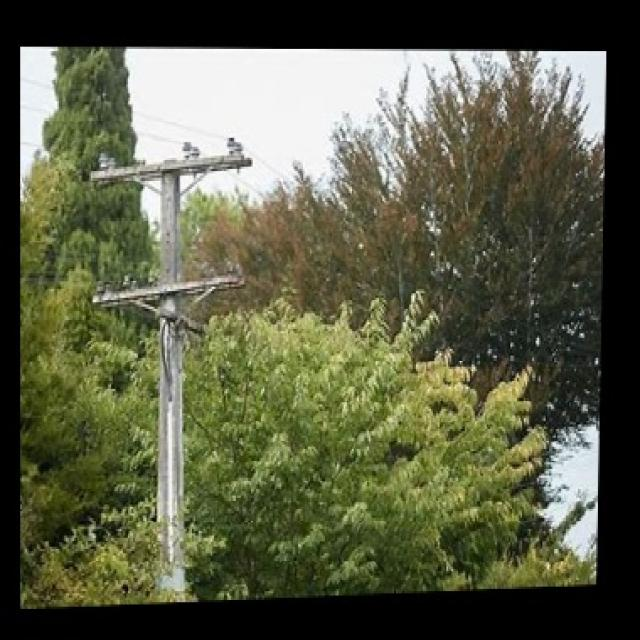utility poles: (89, 124, 237, 596)
